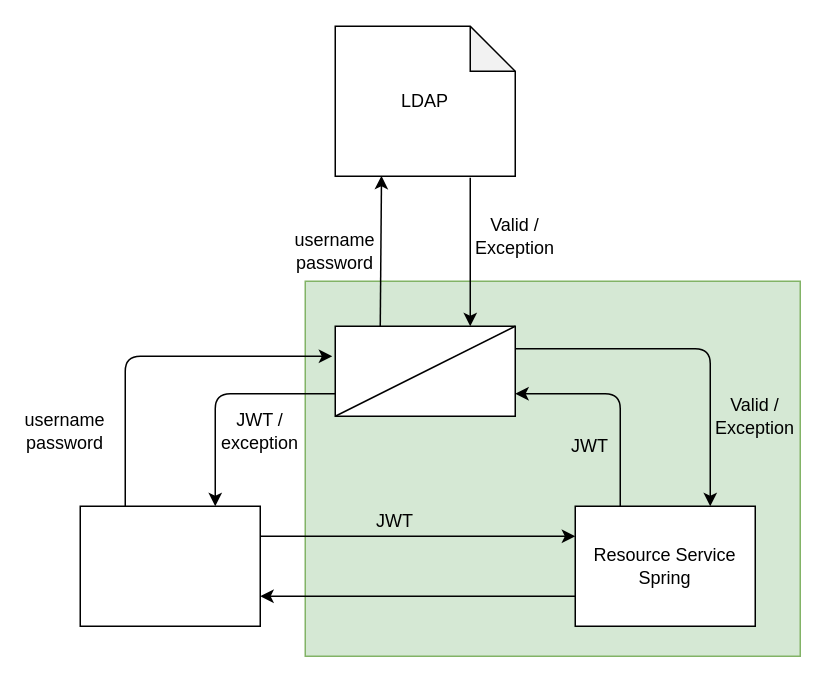
Image size: 827x683. Some labels were removed from this diagram. Here are the shapes that lost their labels. From the top down, the box of each, then its label:
(334, 325, 515, 416): AuthService
(79, 505, 260, 626): Angular
